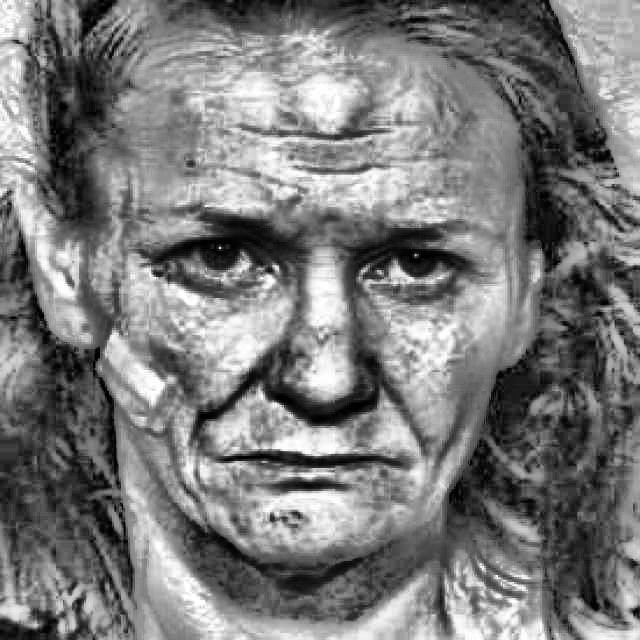sad: (93, 40, 533, 578)
